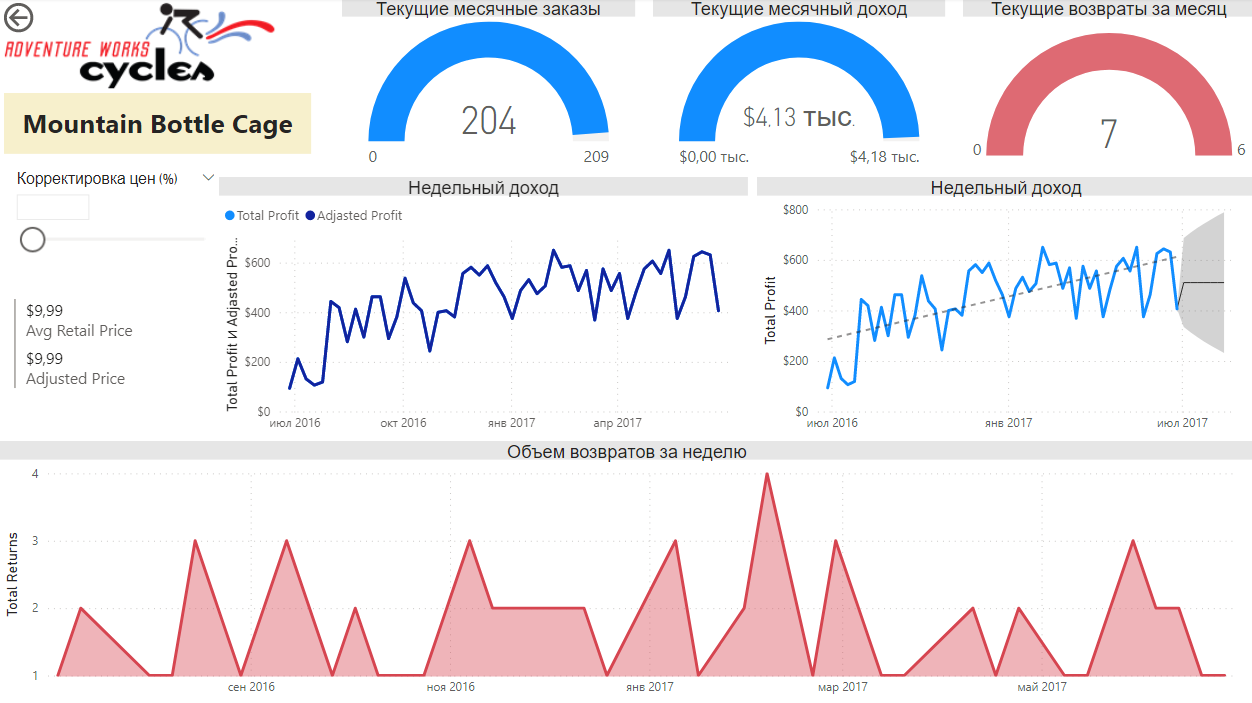

The dashboard page shown, as its layout file describes it:
{"tool":"powerbi","page":{"name":"Информация о товаре","canvas":[1280,720],"ordinal":1},"visuals":[{"type":"image","box":[0,0,289,97],"z":0},{"type":"lineChart","title":"Недельный доход","fields":{"Y":["AW_Sales.Total Profit"],"Category":["AW_Calendar_Lookup.Начало недели"]},"box":[772.3,182.6,507.9,269.2],"z":1000},{"type":"areaChart","title":"Объем возвратов за неделю","fields":{"Category":["AW_Calendar_Lookup.Начало недели"],"Y":["AW_Returns.Total Returns"]},"box":[0,451.5,1280,269],"z":2000},{"type":"gauge","title":"Текущие месячные заказы","fields":{"Y":["AW_Sales.Total Orders"],"MaxValue":["AW_Sales.Order Target"]},"box":[349.6,0,298.6,182.4],"z":3000},{"type":"gauge","title":"Текущие месячный доход","fields":{"Y":["AW_Sales.Total Revenue"],"MaxValue":["AW_Sales.Revenue Target"]},"box":[666.4,0,297.6,182.4],"z":4000},{"type":"gauge","title":"Текущие возвраты за месяц","fields":{"Y":["AW_Returns.Total Returns"],"MaxValue":["AW_Returns.Prev Month Returns"]},"box":[982.4,0,297.6,182.4],"z":5000},{"type":"card","fields":{"Values":["Min(AW_Products_Lookup.ProductName)"]},"box":[5.1,96.8,312.9,62.2],"z":6000},{"type":"actionButton","box":[0,0,100,40],"z":7000},{"type":"slicer","fields":{"Values":["Корректировака це (%).Корректировка цен"]},"box":[4.8,170.3,227.3,160.7],"z":8000},{"type":"multiRowCard","fields":{"Values":["AW_Products_Lookup.Avg Retail Price","AW_Products_Lookup.Adjusted Price"]},"box":[10.5,301.5,221.6,136],"z":9000},{"type":"lineChart","title":"Недельный доход","fields":{"Y":["AW_Sales.Total Profit","AW_Sales.Adjasted Profit"],"Category":["AW_Calendar_Lookup.Начало недели"]},"box":[224.5,182.6,539.3,269.2],"z":10000}]}

Visuals, with their boxes in screenshot pixels (x1, y1, x2, y2), scaled from the page's 1280x720 canvas onto the 1252x703 screenshot:
image: <region>0, 0, 283, 95</region>
"Недельный доход" lineChart: <region>755, 178, 1251, 441</region>
"Объем возвратов за неделю" areaChart: <region>0, 441, 1251, 702</region>
"Текущие месячные заказы" gauge: <region>342, 0, 634, 178</region>
"Текущие месячный доход" gauge: <region>652, 0, 943, 178</region>
"Текущие возвраты за месяц" gauge: <region>961, 0, 1251, 178</region>
card - Min(AW_Products_Lookup.ProductName): <region>5, 95, 311, 155</region>
actionButton: <region>0, 0, 98, 39</region>
slicer - Корректировака це (%).Корректировка цен: <region>5, 166, 227, 323</region>
multiRowCard - AW_Products_Lookup.Avg Retail Price x AW_Products_Lookup.Adjusted Price: <region>10, 294, 227, 427</region>
"Недельный доход" lineChart: <region>220, 178, 747, 441</region>
